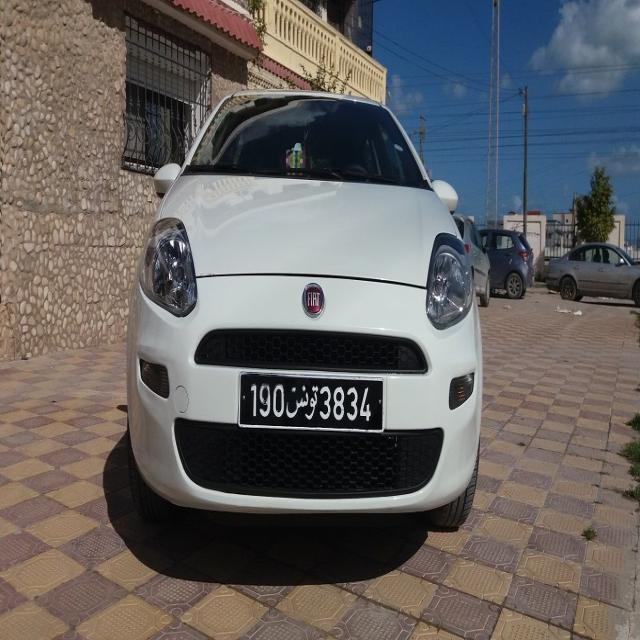LP: (236, 369, 385, 431)
